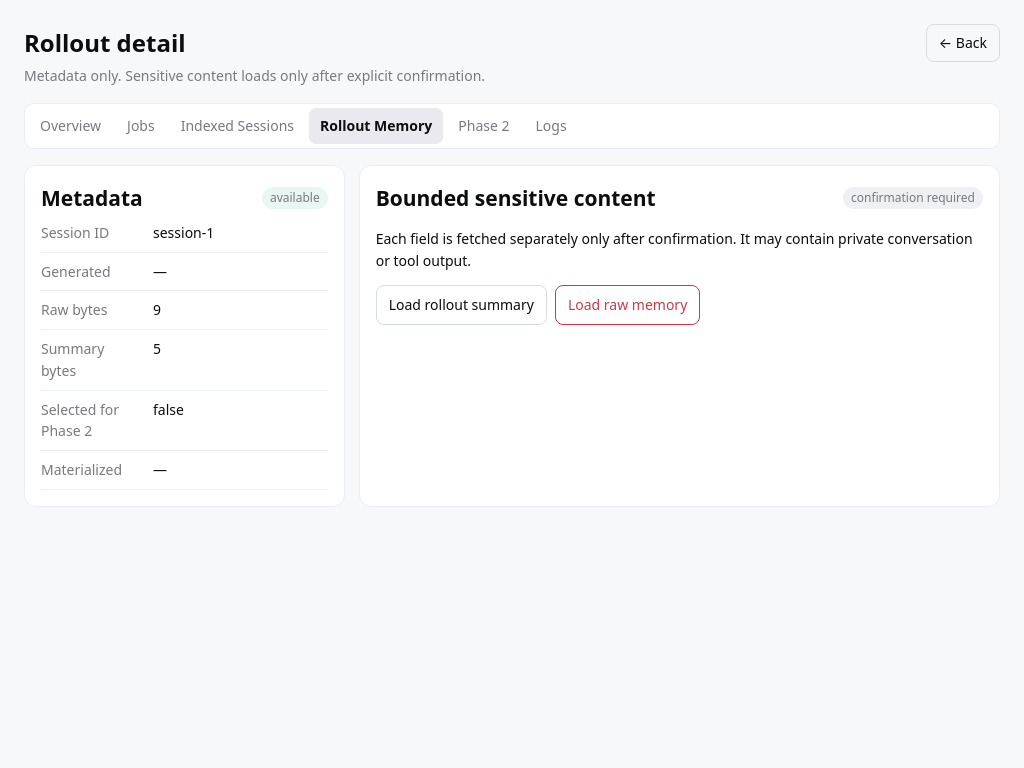
Test: MemoryPage › requires confirmation before requesting sensitive rollout content
Expected: the heading "Rollout detail" is shown, [24,26,186,59]
Click the button "Load raw memory". click: (628, 305)
box: [555,286,700,325]
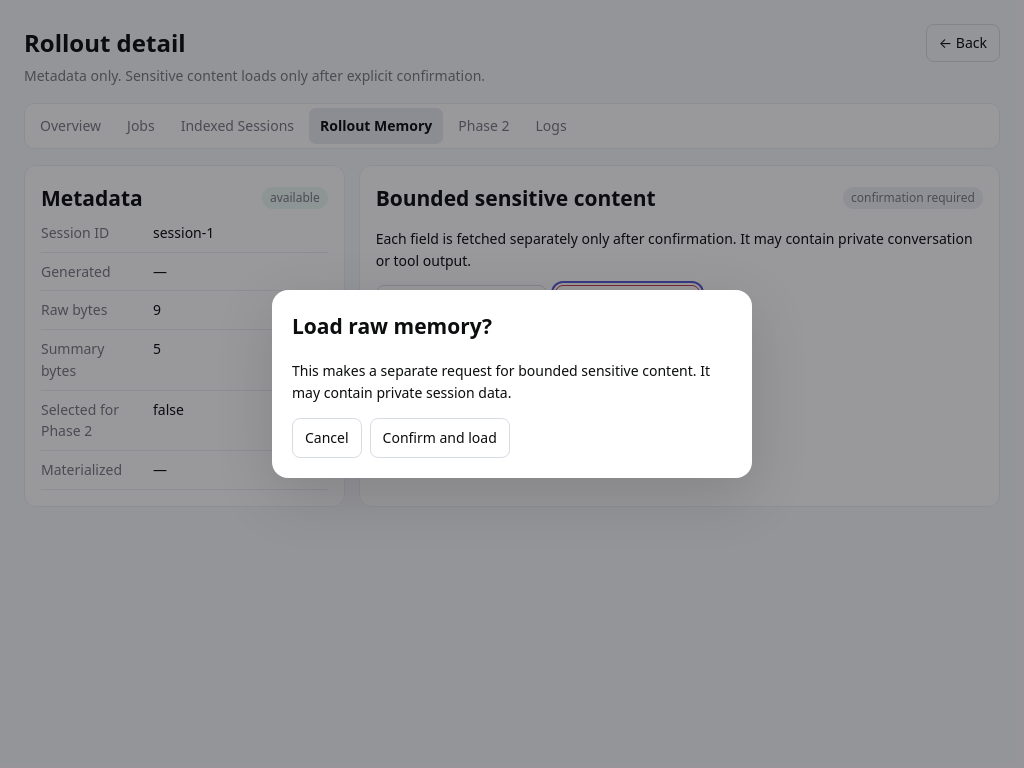
Now the dialog "Load raw memory?" is shown, box [272,290,752,478]
Click the button "Confirm and load". click: (440, 438)
box: [370,418,510,458]
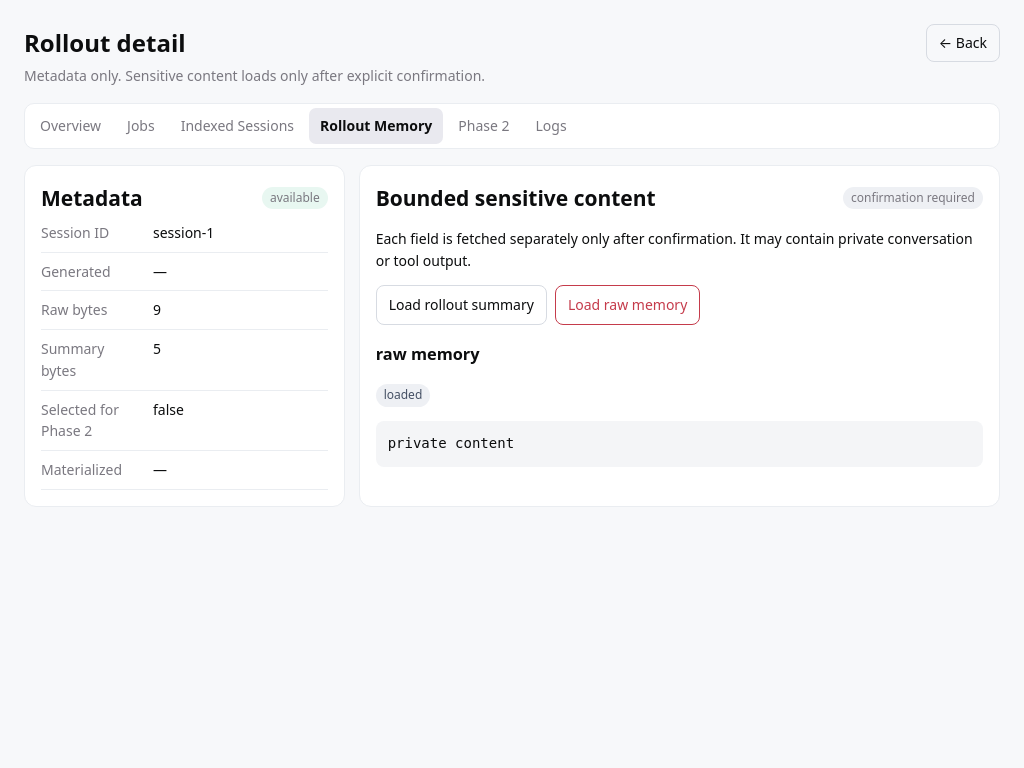
Now the text "private content" is shown, box [376,421,983,467]
